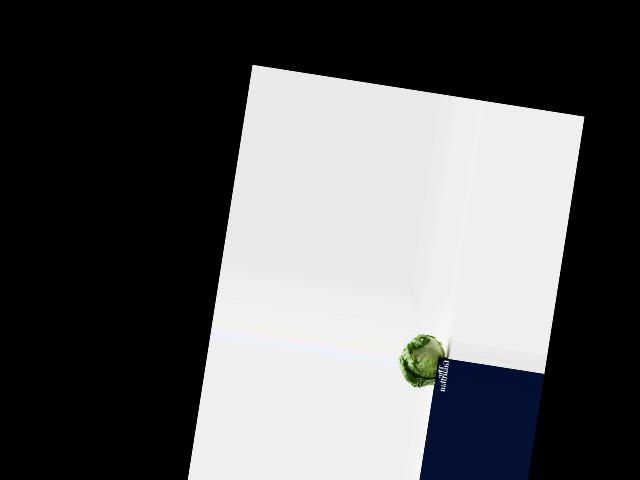lettuce: (393, 331, 447, 389)
